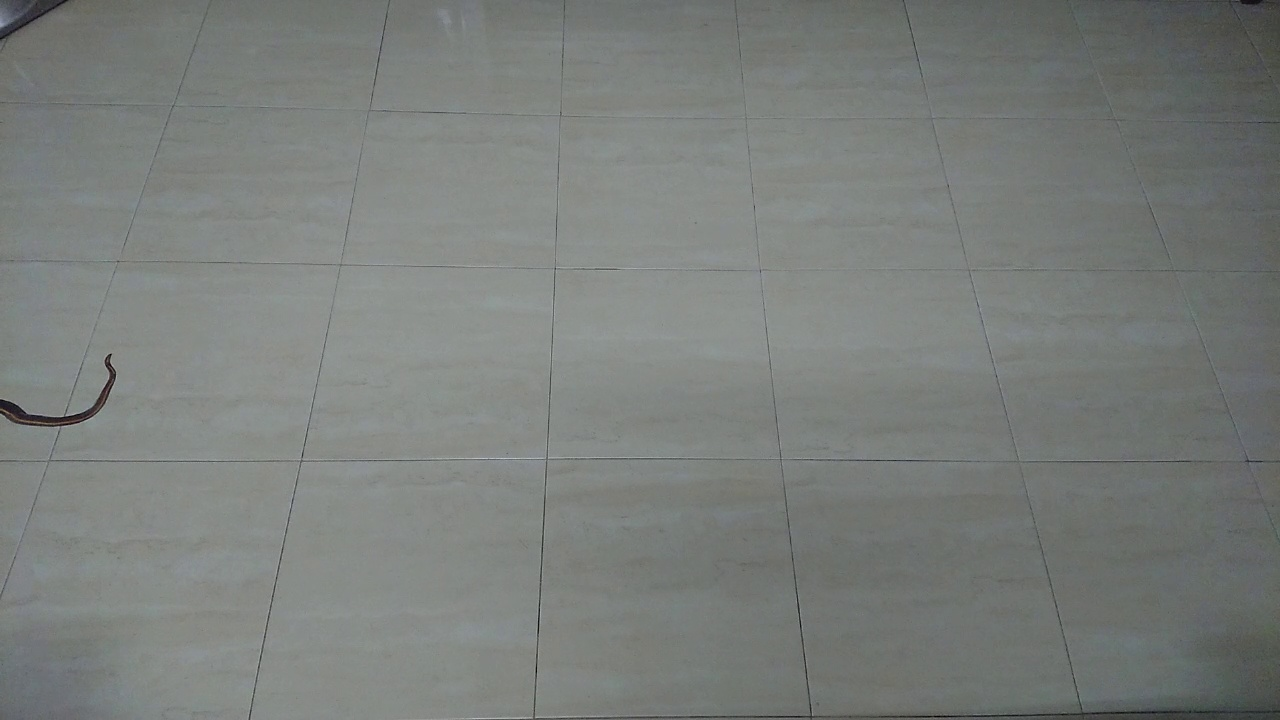snake: (1, 341, 129, 436)
